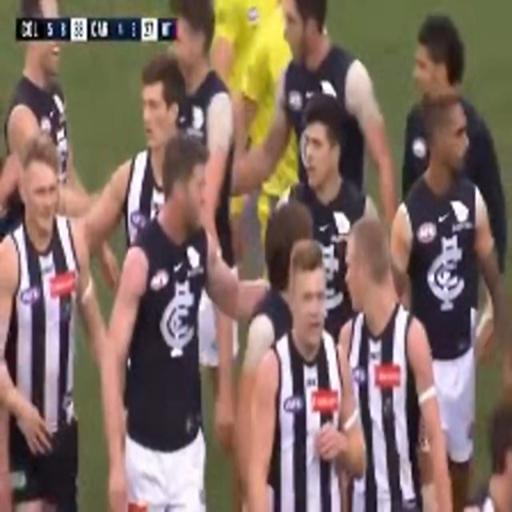nao-violencia: (119, 87, 387, 387), (0, 31, 216, 296), (133, 0, 388, 210)
